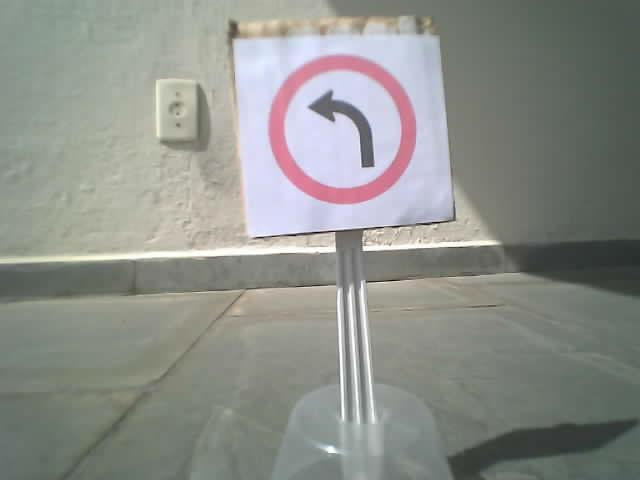R-25a_esquerda: (266, 53, 415, 204)
